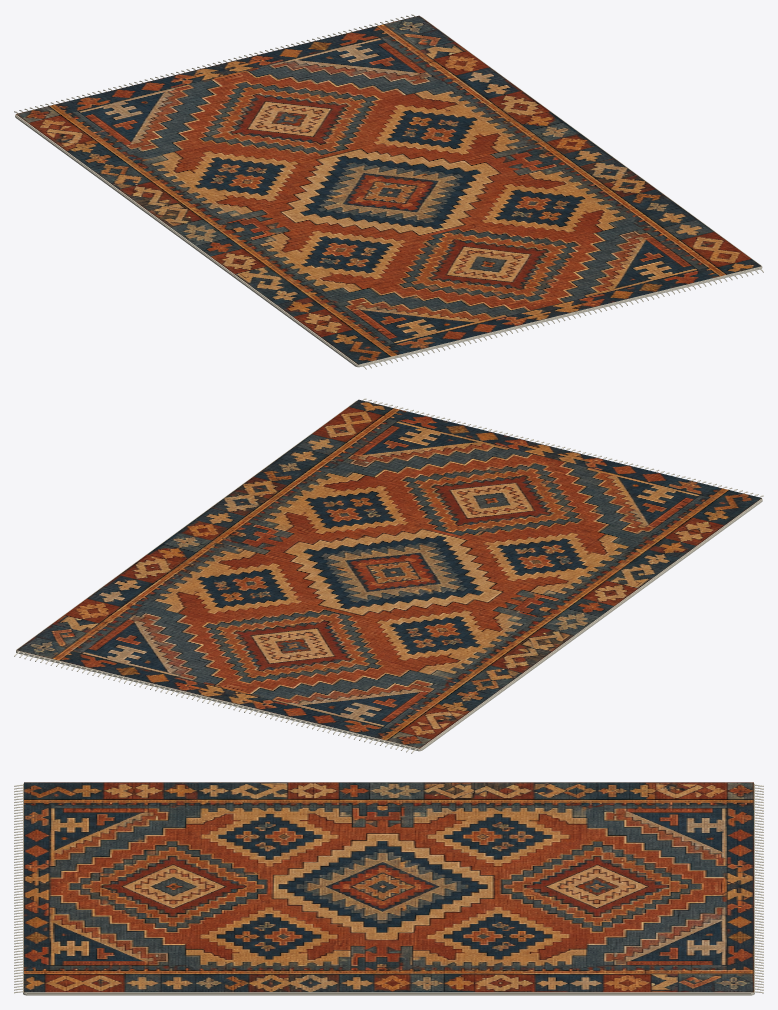
File: designed-rug-kilim.glb
3 views of the same model, one above another, from view 1: azimuth 30°, elevation 25°; view 2: azimuth 150°, elevation 25°; view 3: azimuth 270°, elevation 25° (orthographic). The views are drawn at different scales.
Visible parts, largest first — view 1: catalog_surface_UVMap, catalog_surface_RealismUV; view 2: catalog_surface_UVMap, catalog_surface_RealismUV; view 3: catalog_surface_UVMap, catalog_surface_RealismUV.
Boxes of the visible parts, <box> form: catalog_surface_UVMap: <box>16,15,761,364</box>; catalog_surface_RealismUV: <box>14,14,763,369</box>; catalog_surface_UVMap: <box>17,399,761,748</box>; catalog_surface_RealismUV: <box>14,398,763,753</box>; catalog_surface_UVMap: <box>24,782,753,992</box>; catalog_surface_RealismUV: <box>14,783,763,995</box>.
Bounding box in the file's own units: 1.4 × 0.008 × 2.1.
3 materials, 1 textured.
